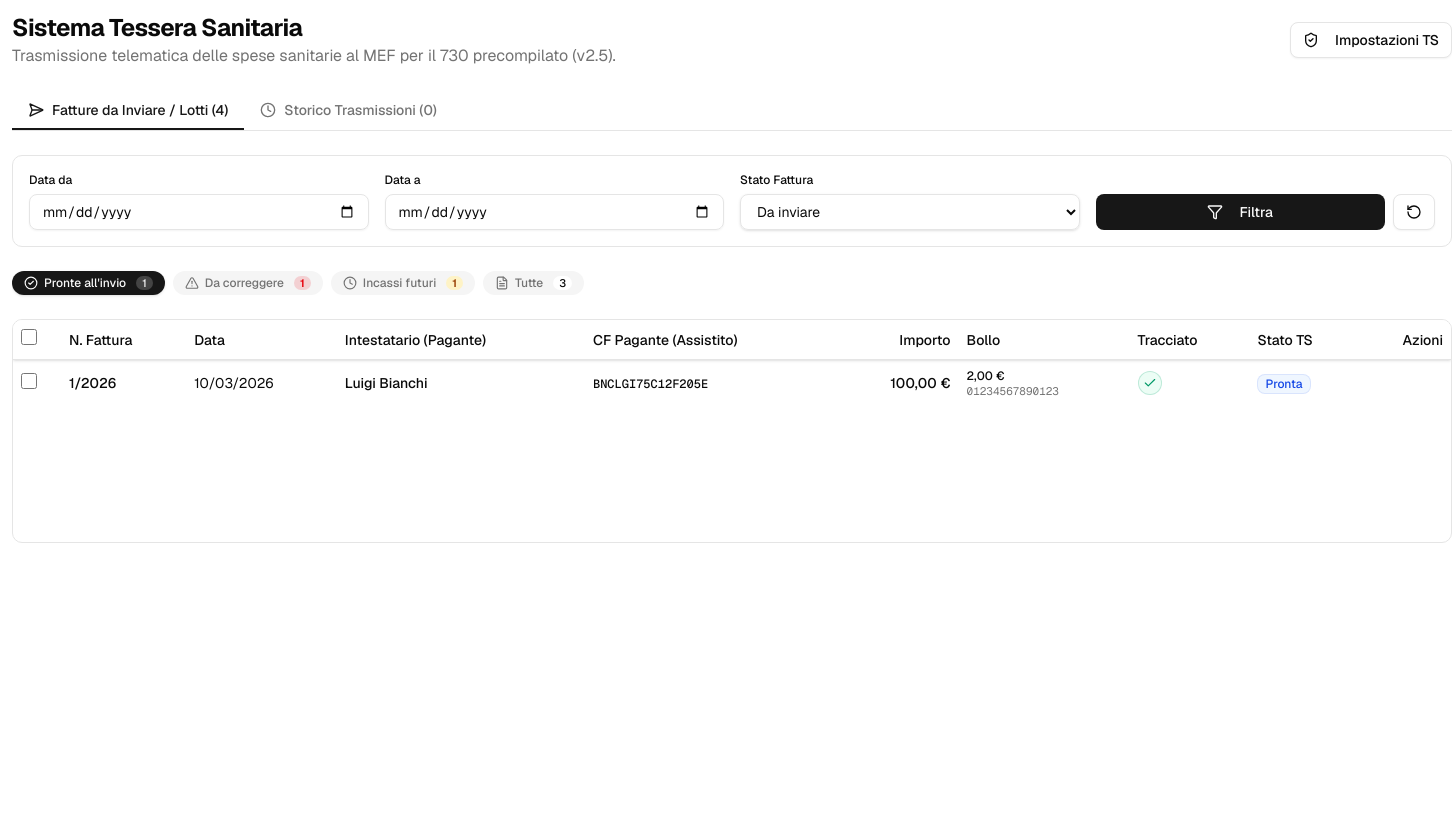
Scenario: SistemaTsManager › seleziona tutte include esclusivamente le fatture pronte ignorando anomalie e incassi futuri
The image size is (1452, 822).
// Nella vista "Tutte" sono presenti 3 fatture (1 pronta, 1 da correggere, 1 futura)
Click the button "Tutte 3".
click(534, 283)  # box [483,271,584,295]
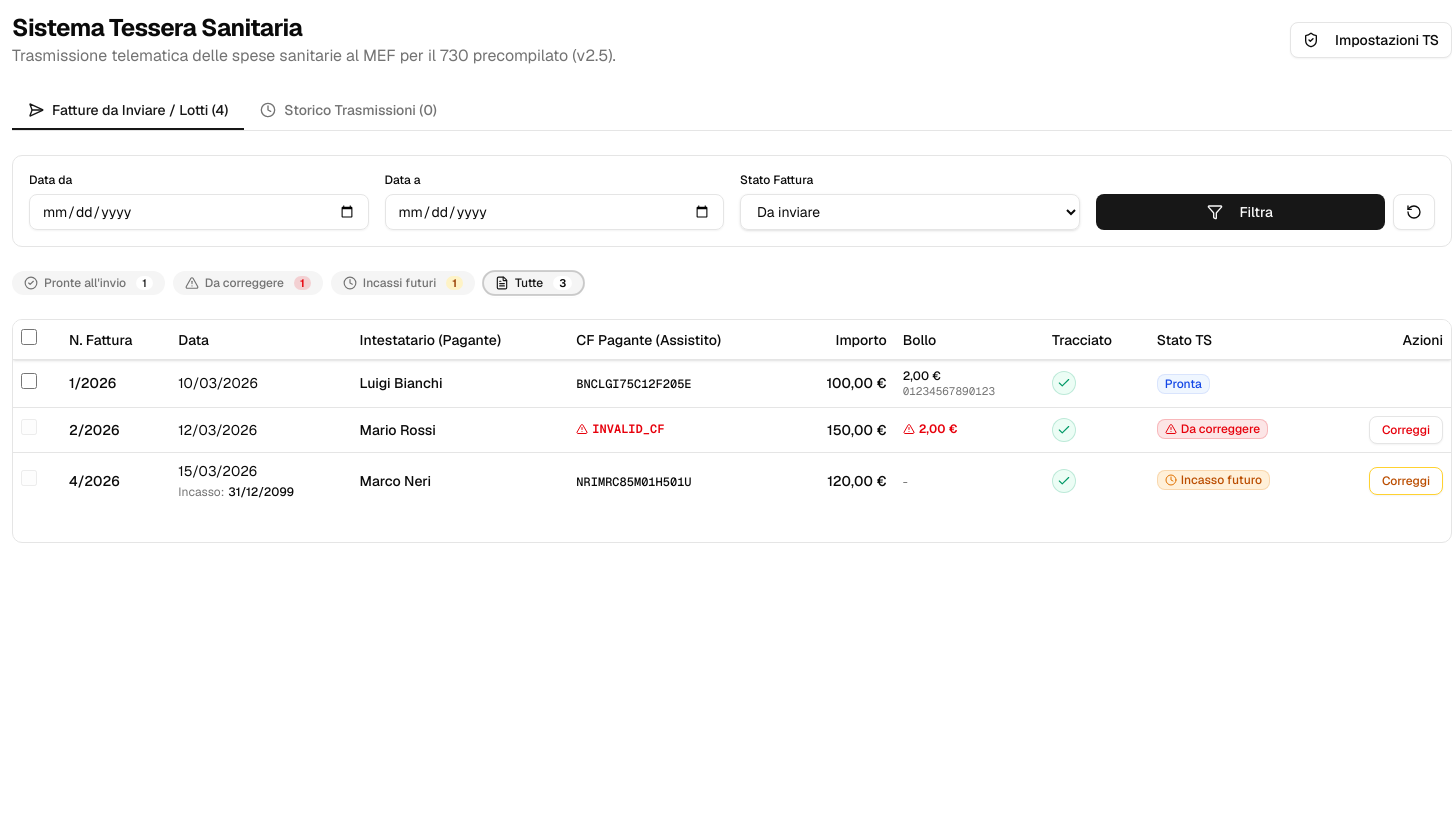
Click the checkbox named "Seleziona tutte le fatture".
click(29, 337)  # box [21,329,37,345]
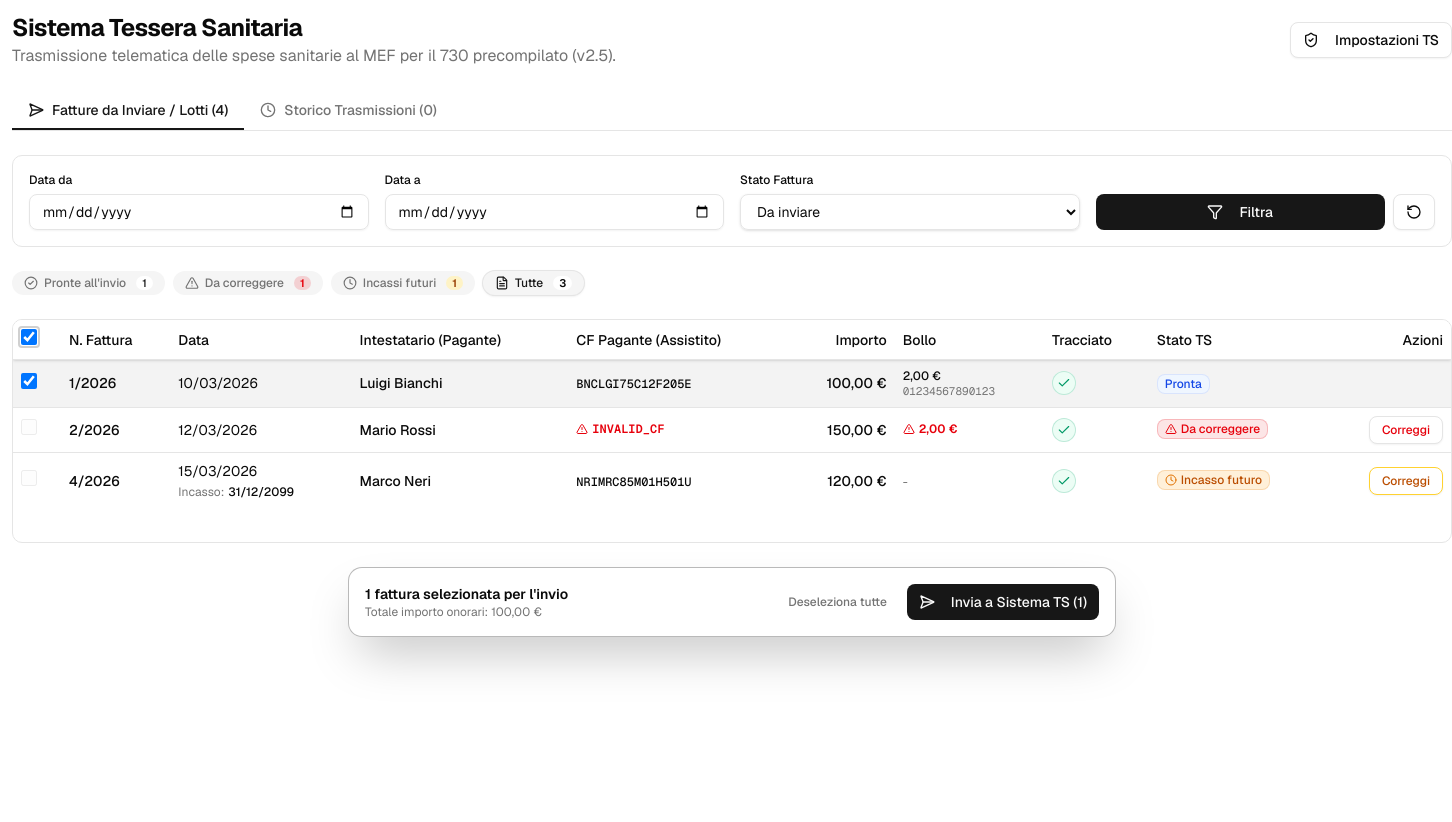
expect the text "1 fattura selezionata per l'invio" is shown: met, box [365,584,568,604]
expect the checkbox named "Seleziona fattura 1" is checked: met, box [21,373,37,389]
